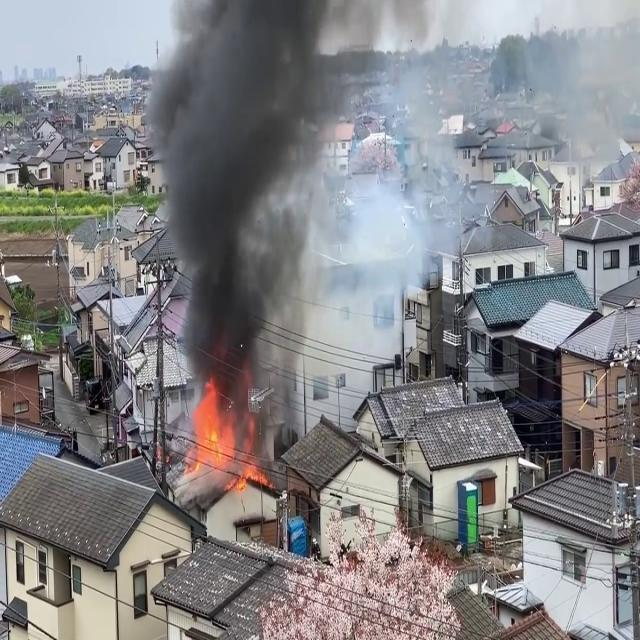Fire: (182, 384, 267, 486)
Smoke: (140, 0, 352, 436)
